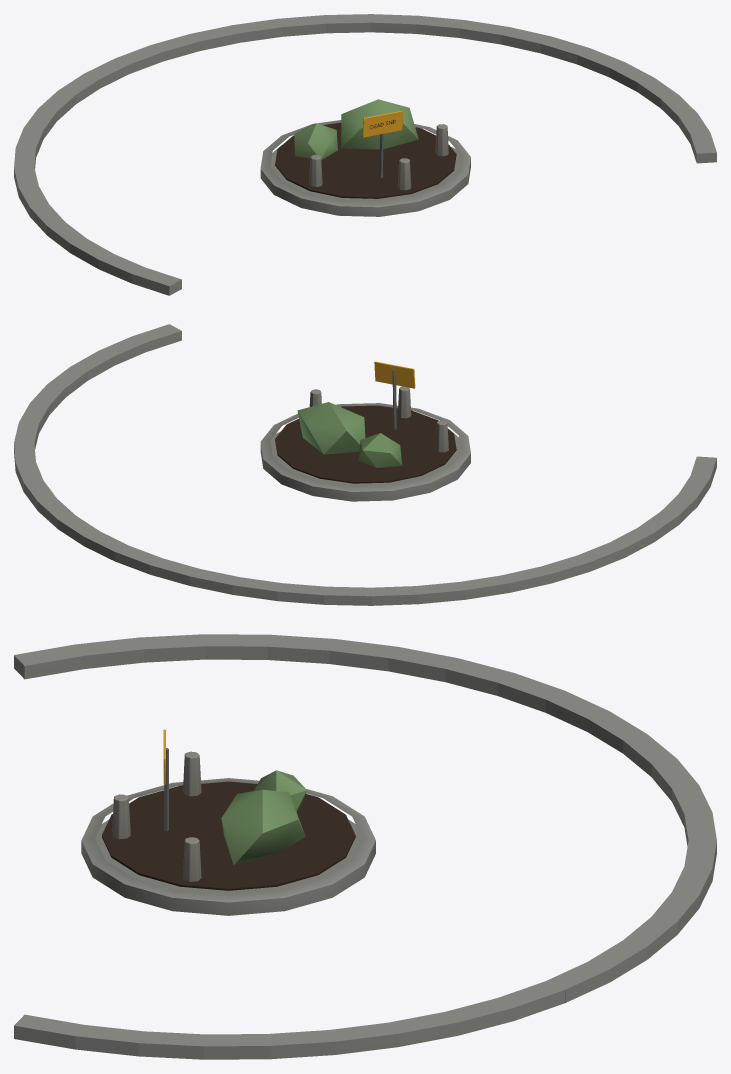
Rendered from street_end_circle.glb.
3 views of the same model, one above another, from view 1: azimuth 30°, elevation 25°; view 2: azimuth 150°, elevation 25°; view 3: azimuth 270°, elevation 25° (orthographic). The views are drawn at different scales.
Parts seen in each view (by area): view 1: street_end_circle; view 2: street_end_circle; view 3: street_end_circle.
Part boxes in pixels (<box>): street_end_circle: <box>14,14,716,295</box>; street_end_circle: <box>14,324,716,605</box>; street_end_circle: <box>14,634,716,1059</box>.
Bounding box in the file's own units: 8.61 × 1.04 × 6.21.
